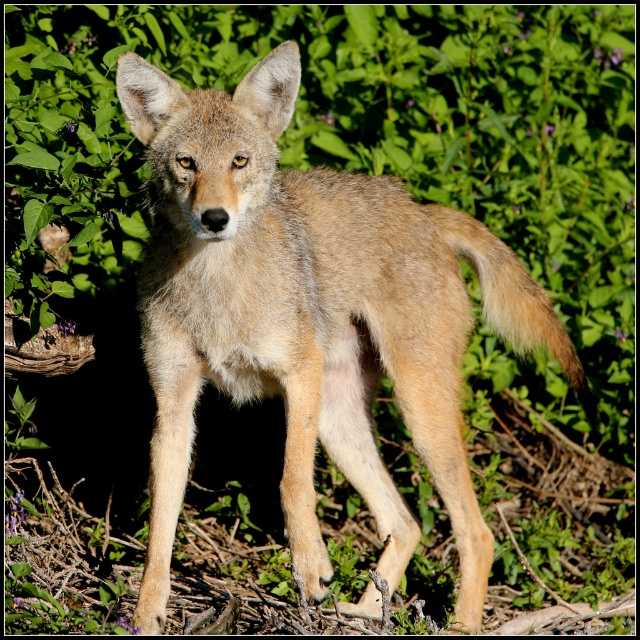Fox: (115, 39, 590, 636)
